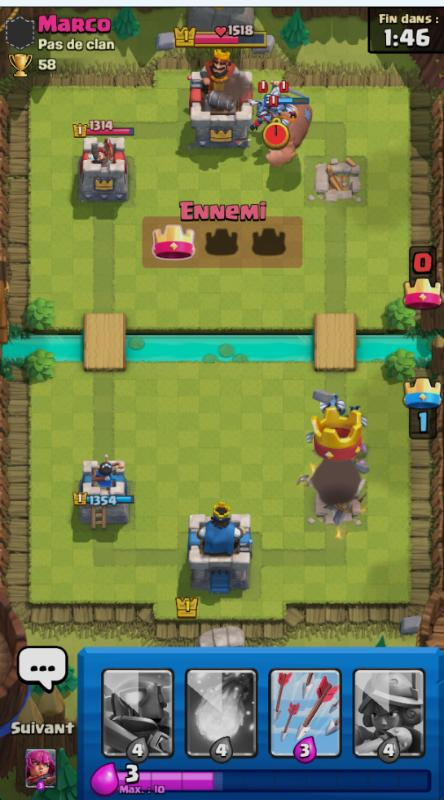gargouille: (248, 107, 287, 136), (344, 404, 371, 430), (275, 89, 297, 119), (318, 391, 344, 416), (250, 95, 276, 117), (305, 428, 321, 445)
geant: (253, 97, 317, 170)
